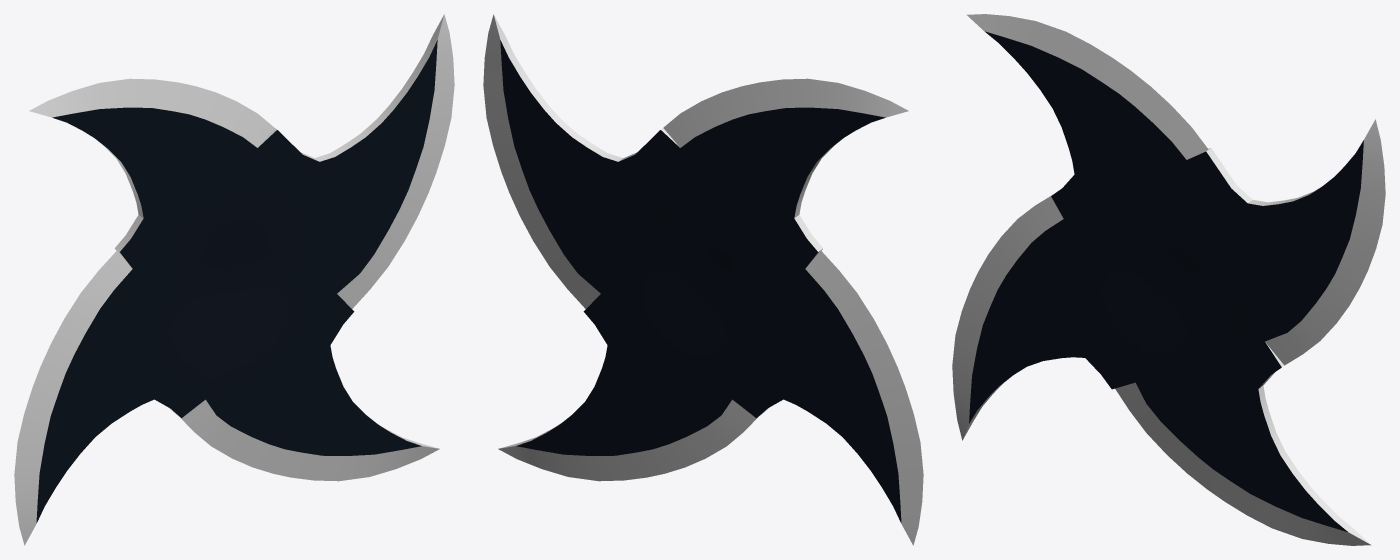
File: scene_QtUHSSBigu.glb
The picture shows the model from 3 angles, left to right: view 1: azimuth 30°, elevation 25°; view 2: azimuth 150°, elevation 25°; view 3: azimuth 330°, elevation 25°; orthographic projection.
Parts seen in each view (by area): view 1: Shuriken_20; view 2: Shuriken_20; view 3: Shuriken_20.
Boxes of the visible parts, x1,y1,x2,y2 form: Shuriken_20: (14, 14, 454, 545); Shuriken_20: (483, 14, 923, 545); Shuriken_20: (952, 14, 1385, 545).
Bounding box in the file's own units: 1.69 × 1.68 × 0.034.
